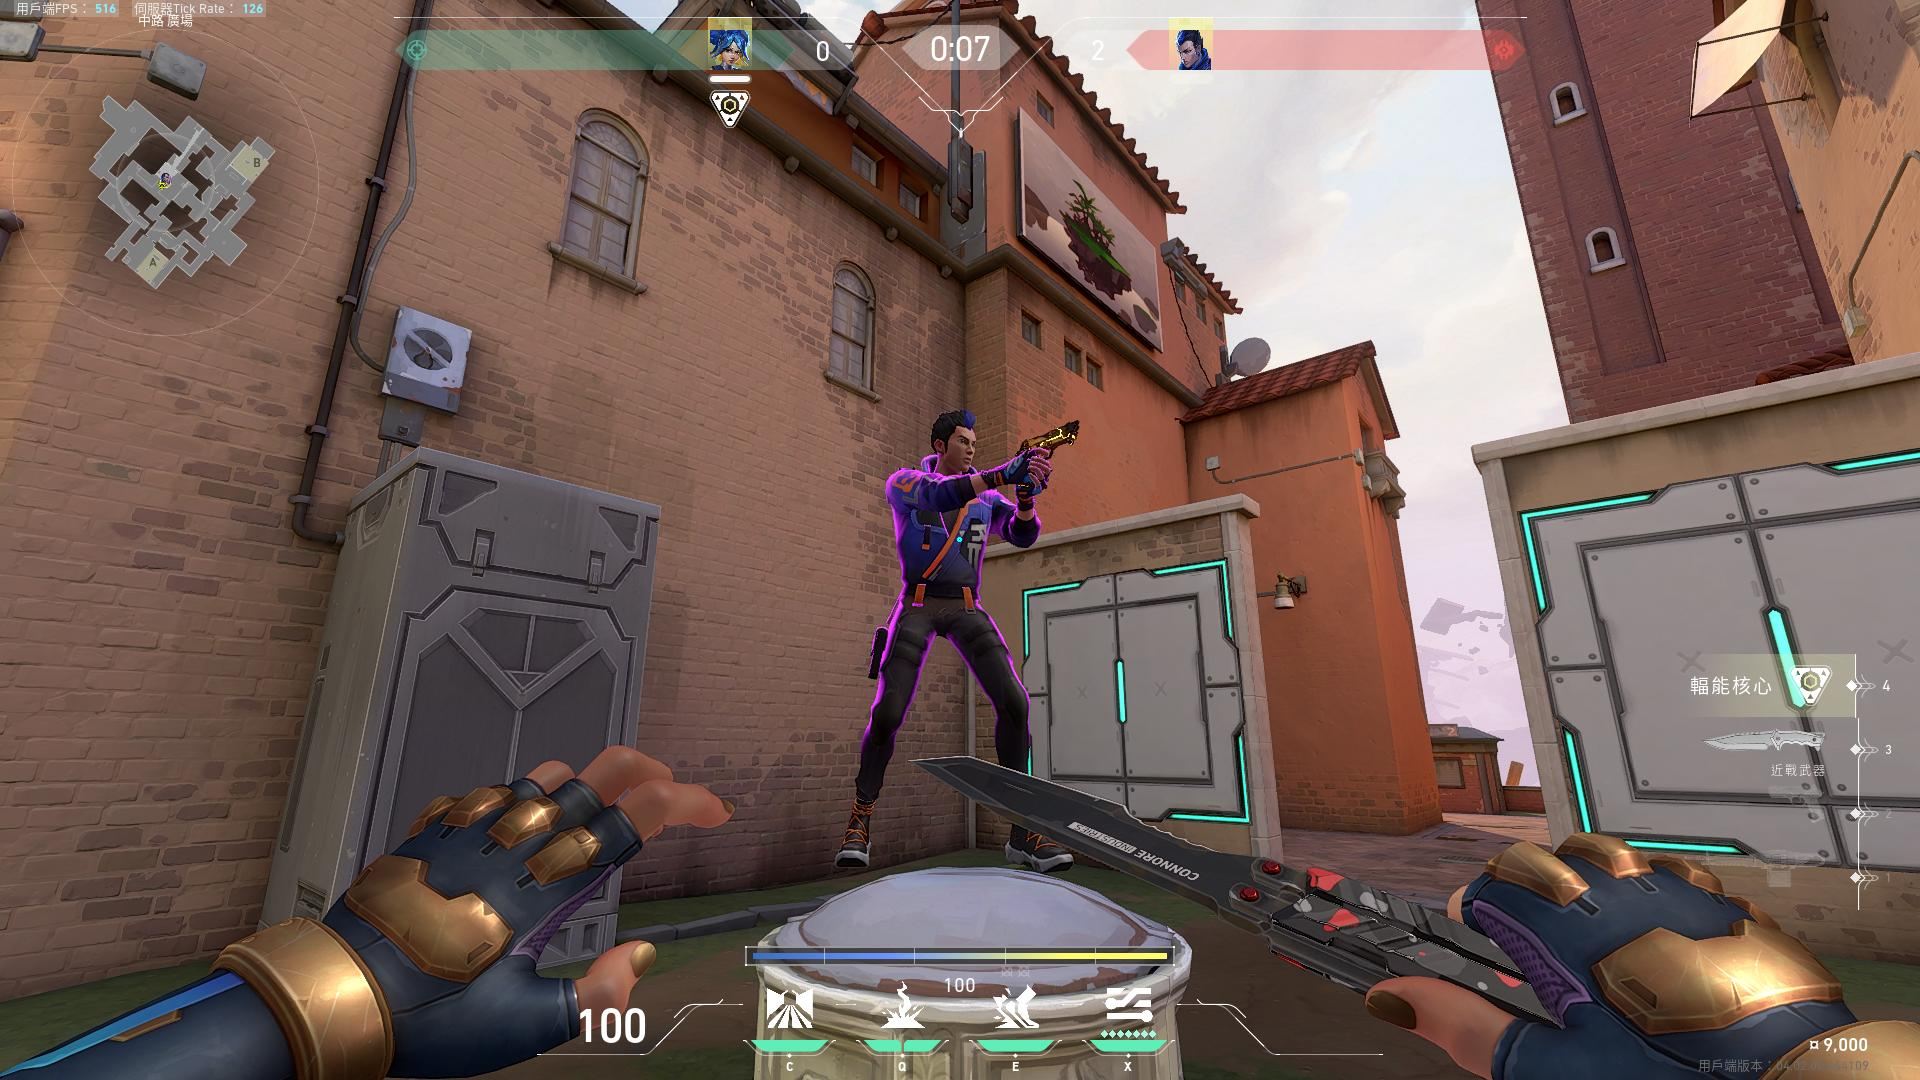enemyBody: (909, 501, 980, 588)
enemyHead: (934, 419, 981, 473)
